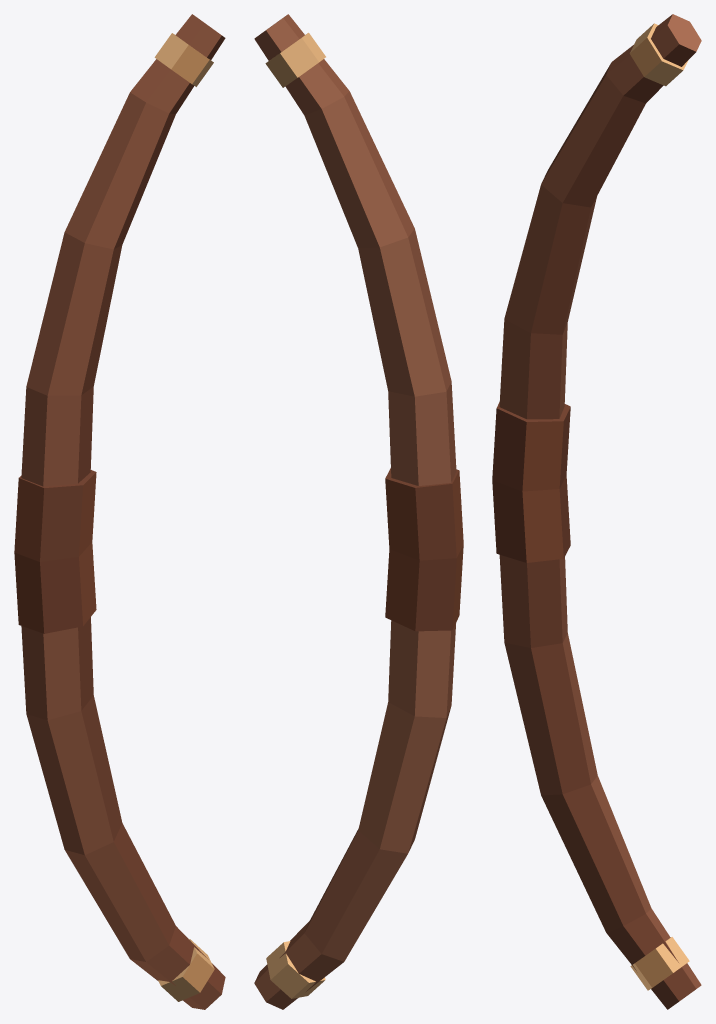
The model's file is Bow_No_String.glb.
3 views of the same model, side by side, from view 1: azimuth 30°, elevation 25°; view 2: azimuth 150°, elevation 25°; view 3: azimuth 330°, elevation 25° (orthographic).
Parts seen in each view (by area): view 1: Faceted recurve bow, Dark leather grip, Tip binding.001, Tip binding; view 2: Faceted recurve bow, Dark leather grip, Tip binding.001, Tip binding; view 3: Faceted recurve bow, Dark leather grip, Tip binding, Tip binding.001.
Part boxes in pixels (bbox=[...]): Faceted recurve bow: bbox=[21, 14, 225, 1009]; Dark leather grip: bbox=[14, 470, 96, 633]; Tip binding.001: bbox=[154, 33, 213, 86]; Tip binding: bbox=[158, 939, 214, 1001]; Faceted recurve bow: bbox=[254, 14, 456, 1009]; Dark leather grip: bbox=[385, 468, 463, 631]; Tip binding.001: bbox=[265, 32, 325, 87]; Tip binding: bbox=[266, 941, 325, 998]; Faceted recurve bow: bbox=[499, 14, 701, 1009]; Dark leather grip: bbox=[492, 402, 570, 562]; Tip binding: bbox=[630, 937, 689, 990]; Tip binding.001: bbox=[629, 23, 688, 86].
Bounding box in the file's own units: 0.3364 × 1.56 × 0.0927.
Materials: 1 (1 with a texture image).
